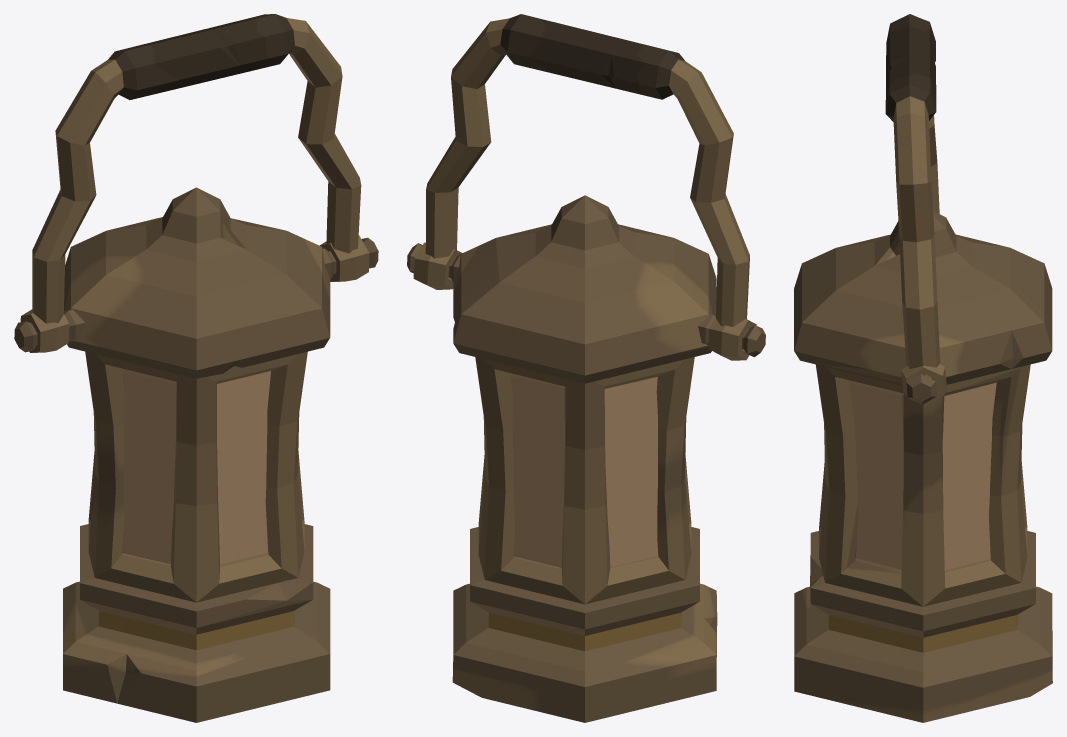
File: SM_Prop_Lantern_02.fbx
3 renders of one model, left to right at view 1: azimuth 30°, elevation 25°; view 2: azimuth 150°, elevation 25°; view 3: azimuth 270°, elevation 25°, orthographic. The views are drawn at different scales.
Parts seen in each view (by area): view 1: SM_Prop_Lantern_02; view 2: SM_Prop_Lantern_02; view 3: SM_Prop_Lantern_02.
Part boxes in pixels (box(x1,y1,x2,y2)): SM_Prop_Lantern_02: box(14, 14, 378, 722); SM_Prop_Lantern_02: box(407, 14, 765, 722); SM_Prop_Lantern_02: box(794, 14, 1052, 722).
Bounding box in the file's own units: 36.48 × 62.11 × 23.89.
